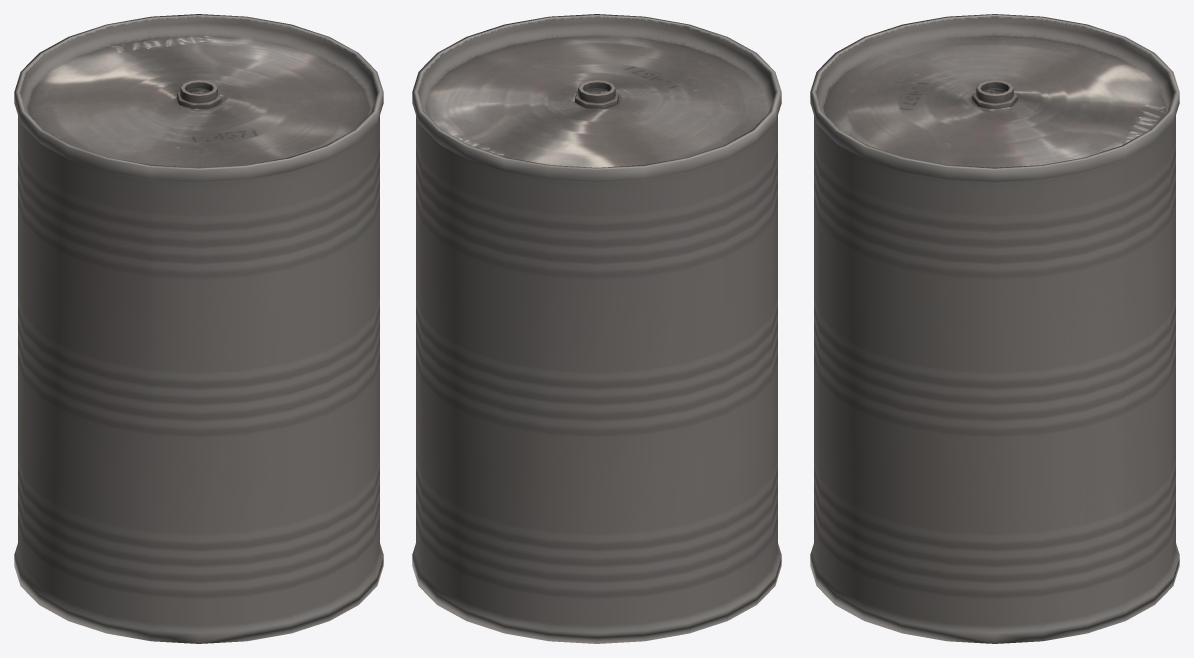
Rendered from bleibehaelter.fbx.
The picture shows the model from 3 angles, left to right: view 1: azimuth 30°, elevation 25°; view 2: azimuth 150°, elevation 25°; view 3: azimuth 270°, elevation 25°; orthographic projection.
Parts seen in each view (by area): view 1: bleibehaelter_01; view 2: bleibehaelter_01; view 3: bleibehaelter_01.
Boxes of the visible parts, x1,y1,x2,y2 form: bleibehaelter_01: [14, 14, 383, 643]; bleibehaelter_01: [412, 14, 781, 643]; bleibehaelter_01: [810, 14, 1179, 643].
Bounding box in the file's own units: 84.61 × 121 × 84.61.
